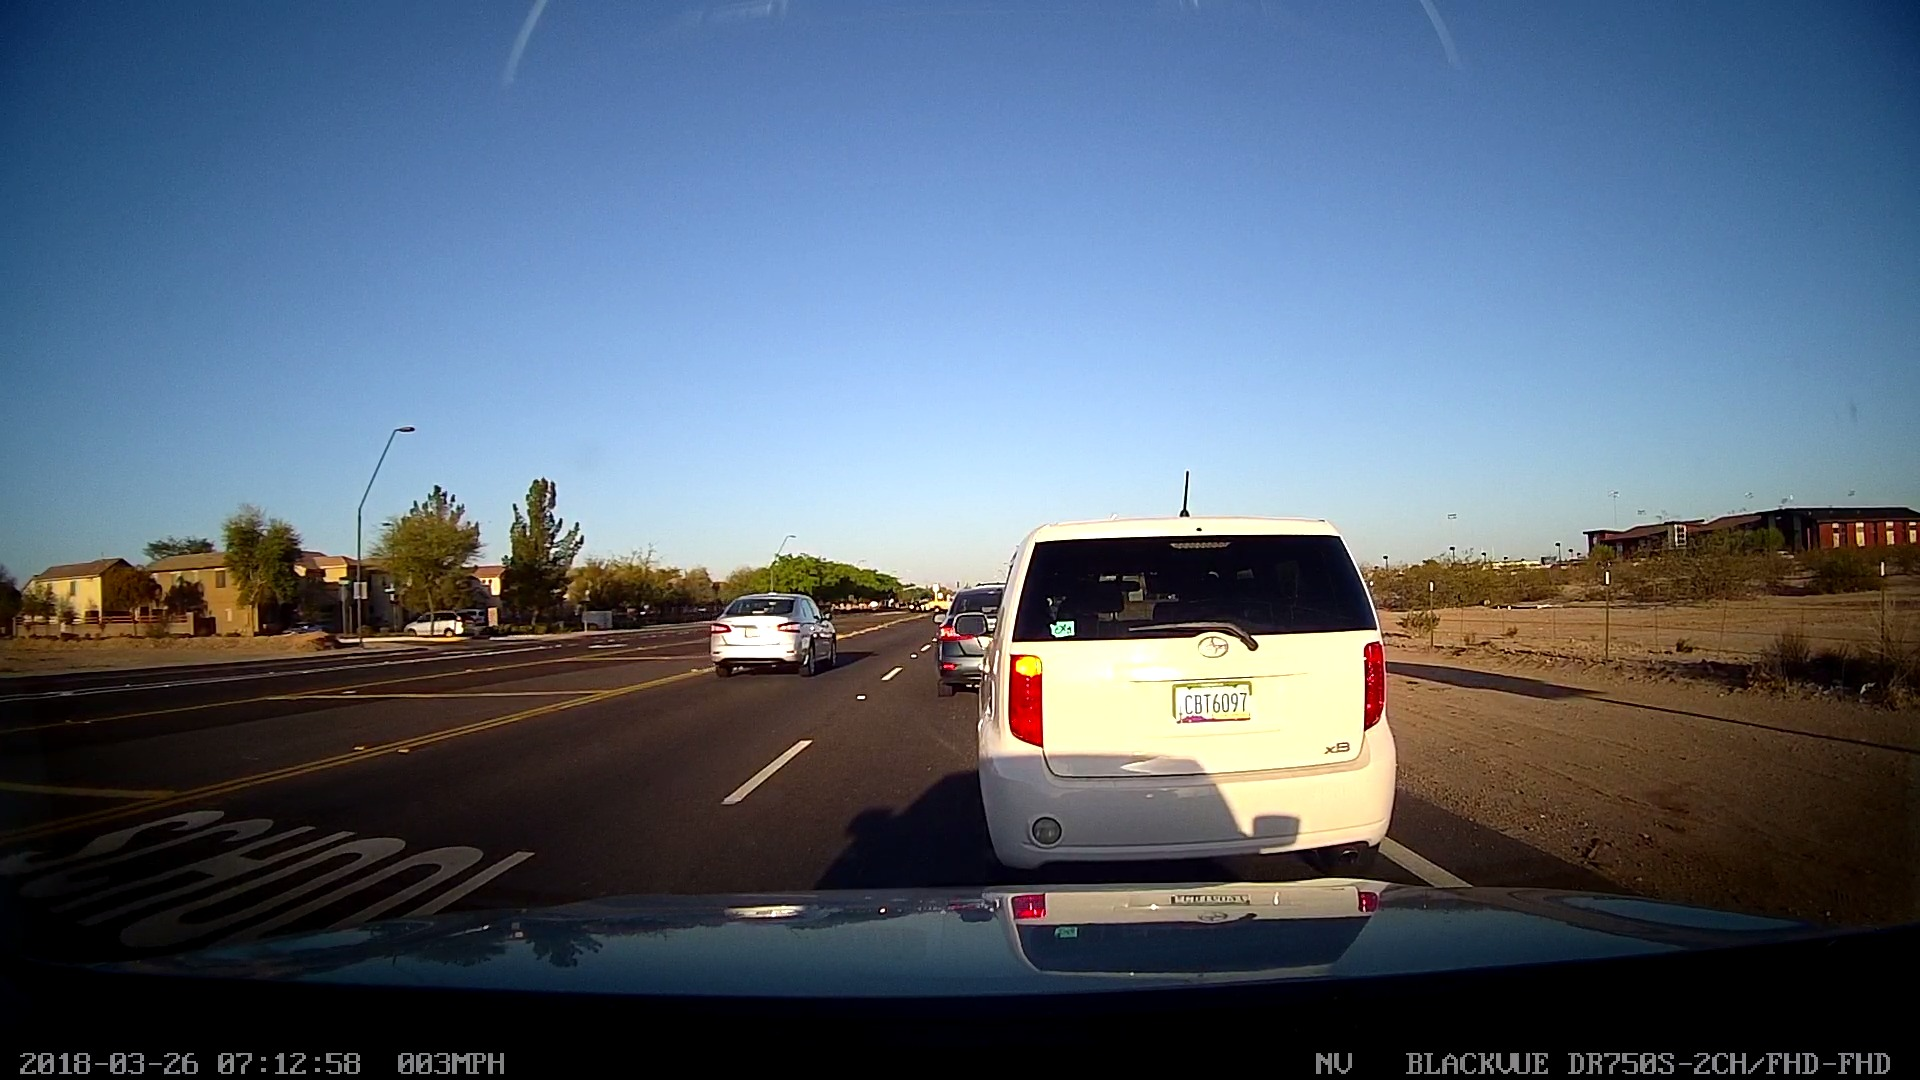plate: (1166, 673, 1261, 733)
vehicle: (965, 506, 1400, 872), (699, 586, 842, 680), (923, 579, 1028, 696), (395, 601, 471, 645)
